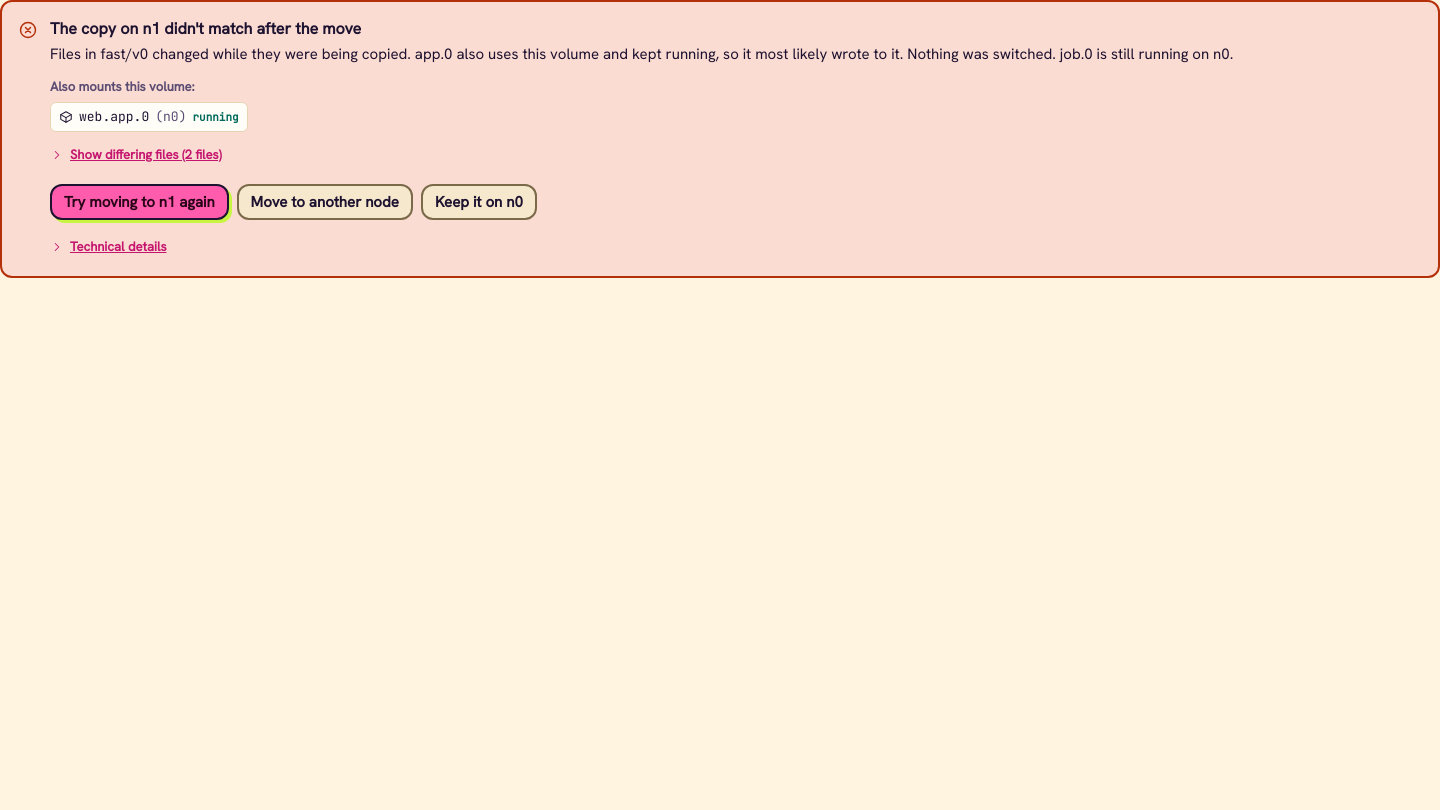
Test: MigrationProblem › shows a danger toast when the action fails
This screenshot has width=1440, height=810.
Click the button "Try moving to n1 again".
click(139, 202)  # box [50,184,229,220]
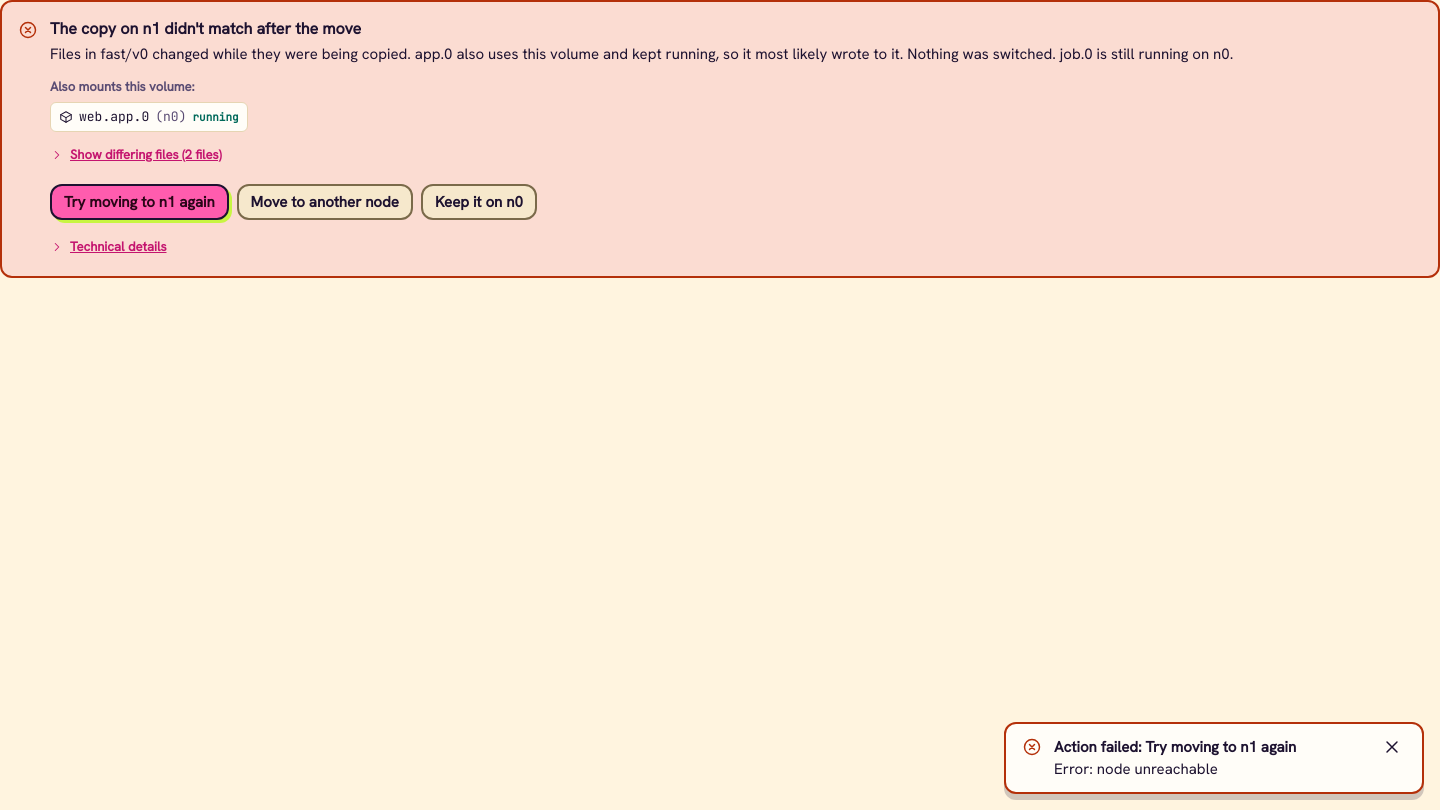
Expected: the text "Error: node unreachable" is shown, [1054,759,1218,779]
